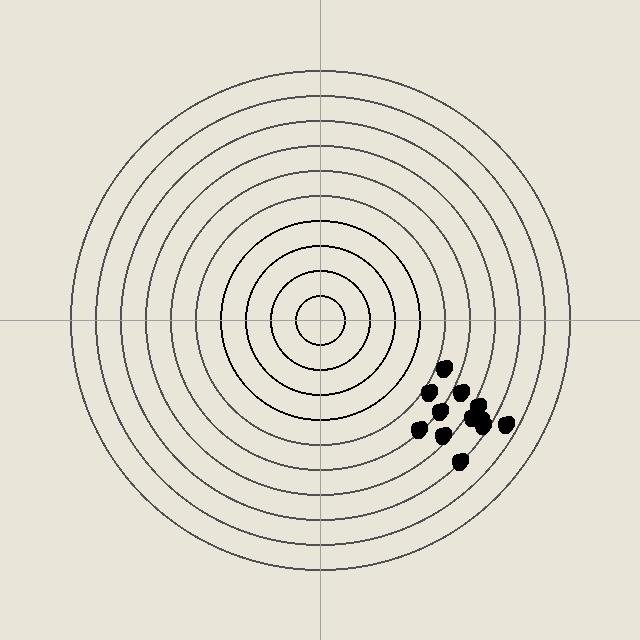good_group: (467, 396, 487, 416), (433, 358, 453, 378), (495, 414, 515, 434), (432, 425, 452, 445), (461, 407, 481, 427), (429, 401, 449, 421), (450, 382, 470, 402), (472, 415, 492, 435), (470, 410, 490, 430), (449, 451, 469, 471), (408, 419, 428, 439), (418, 382, 438, 402)
